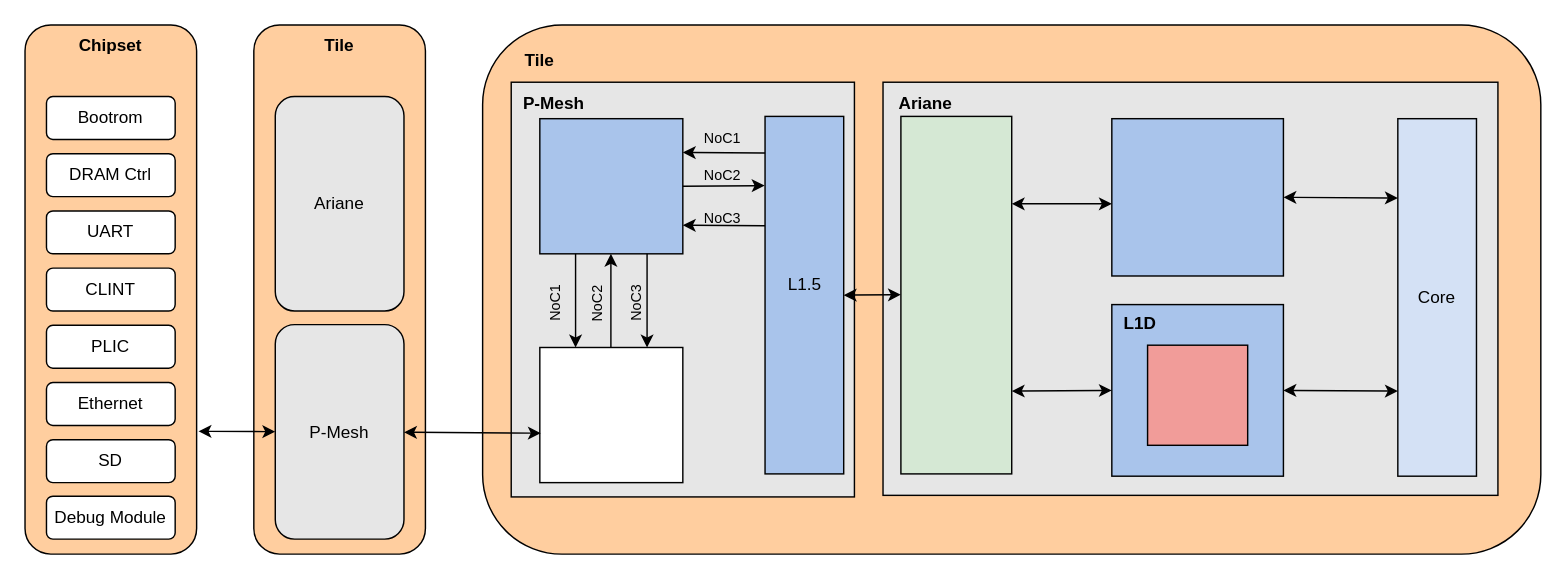
Image size: 1566x579. Some labels were removed from this diagram. Each missing label, with the centre of its shape:
"HPDCache" goes at pixel 1197 394.
"L1.5 L1I Ariane + HPDCache Adapter" goes at pixel 955 294.
"L1I" goes at pixel 1196 196.
"L2" goes at pixel 610 185.
"NoC Routers" goes at pixel 610 414.
